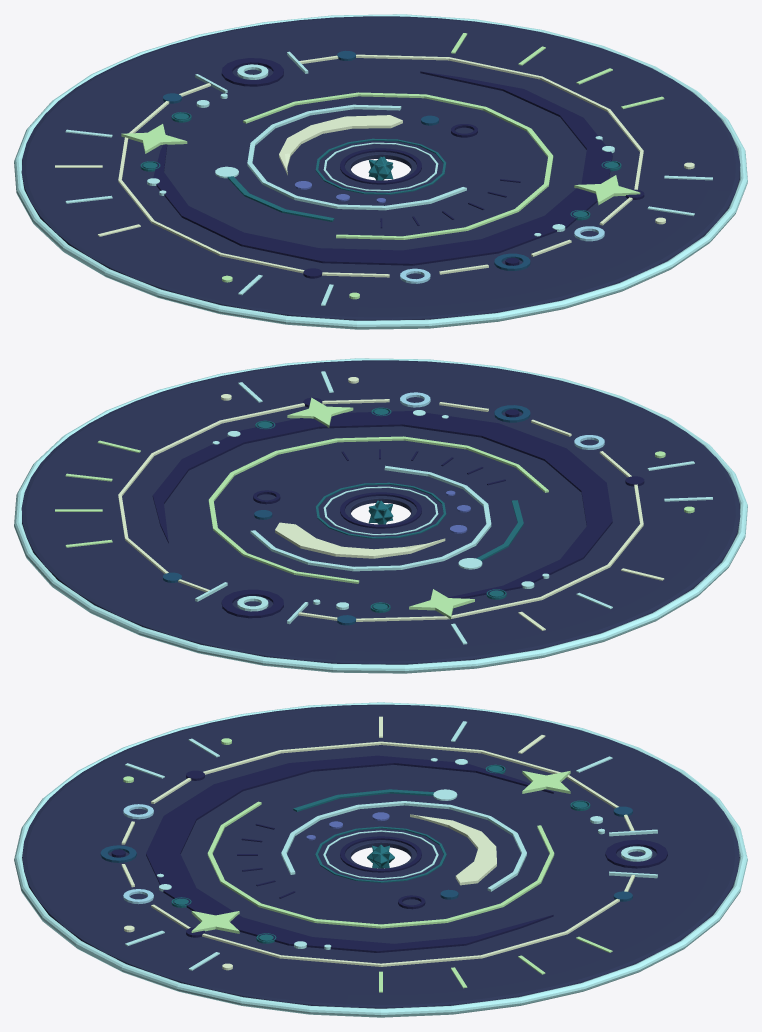
Rendered from balance star top_st3.fbx.
The picture shows the model from 3 angles, top to bottom: view 1: azimuth 30°, elevation 25°; view 2: azimuth 150°, elevation 25°; view 3: azimuth 270°, elevation 25°; orthographic projection.
Visible parts, largest first — view 1: Null; view 2: Null; view 3: Null.
Boxes of the visible parts, <box> form: Null: <box>14,14,747,329</box>; Null: <box>14,358,747,673</box>; Null: <box>14,702,747,1017</box>.
Size of the model in its own units: 203 by 7.75 by 203.
